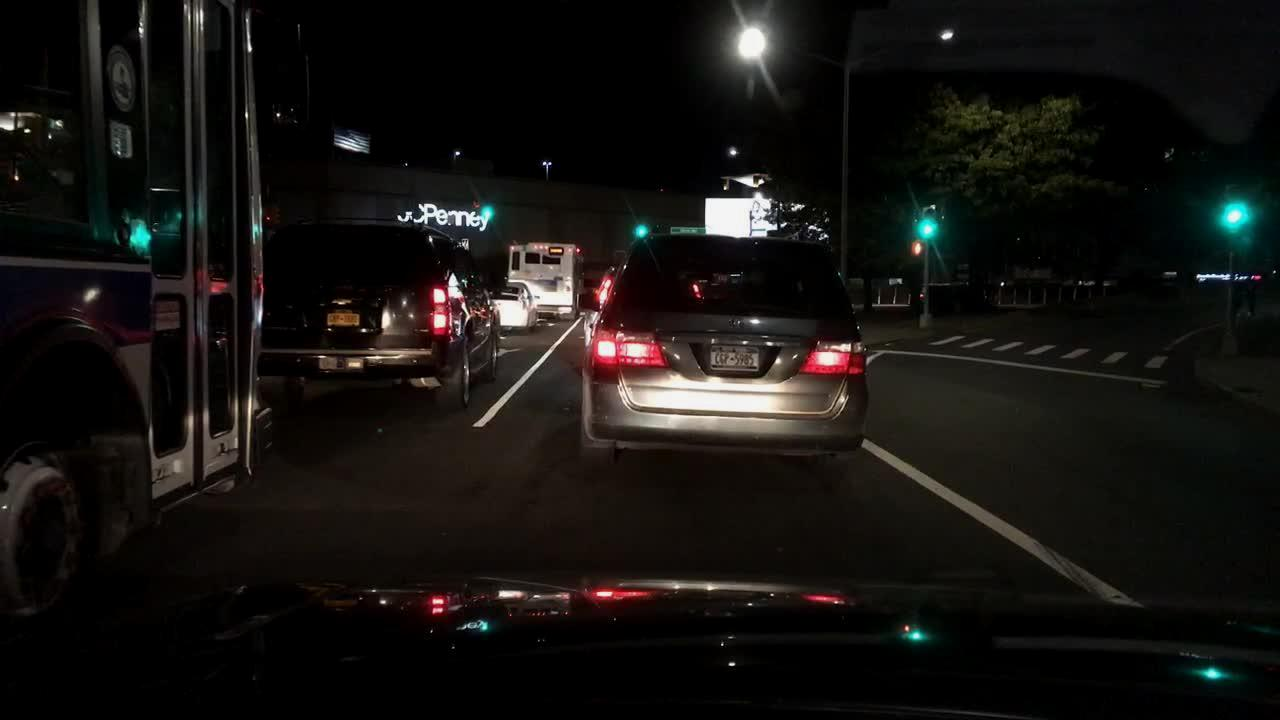chevrolet: (326, 292, 354, 310)
